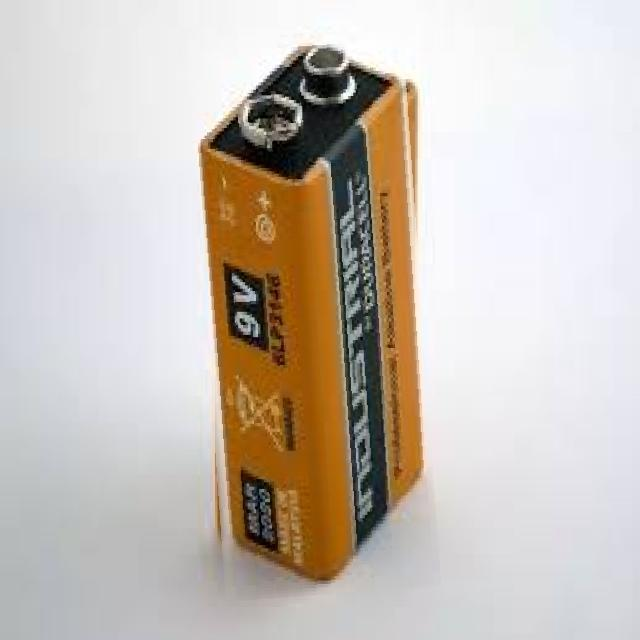Battery: (172, 27, 473, 608)
